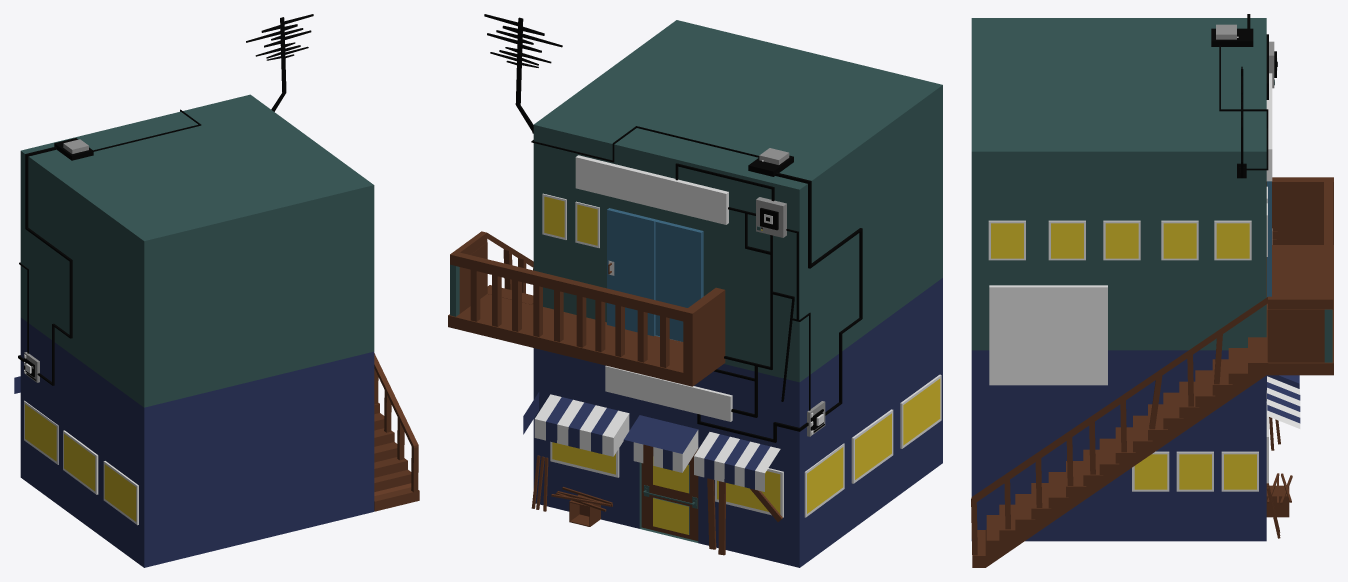
The model's file is Buildng 2 A4.fbx.
3 renders of one model, left to right at view 1: azimuth 30°, elevation 25°; view 2: azimuth 150°, elevation 25°; view 3: azimuth 270°, elevation 25°, orthographic. The views are drawn at different scales.
Parts seen in each view (by area): view 1: Cube; view 2: Cube; view 3: Cube.
Part boxes in pixels (box(x1,y1,x2,y2)): Cube: box(14, 14, 419, 567); Cube: box(448, 14, 942, 567); Cube: box(971, 14, 1333, 567).
Size of the model in its own units: 430 by 579 by 394.
